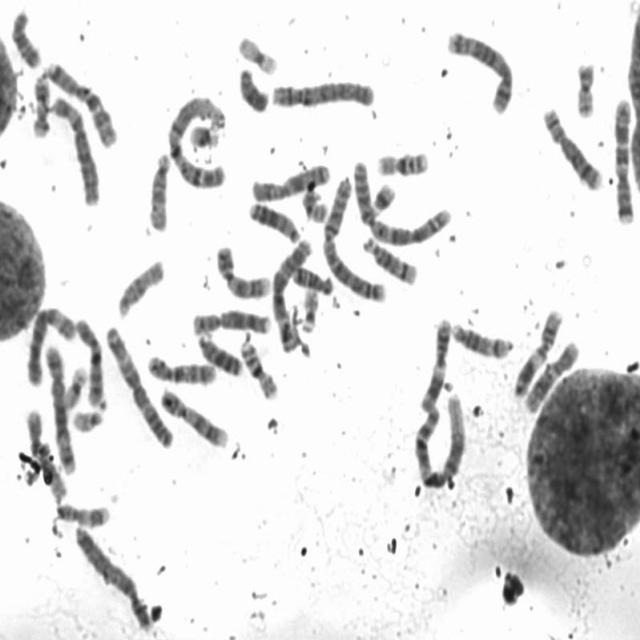A1: (164, 92, 228, 192), (409, 389, 468, 493)
A2: (348, 157, 452, 248), (319, 170, 388, 305)
A3: (104, 322, 174, 449), (268, 236, 314, 356)
B4: (73, 521, 153, 633), (267, 76, 375, 110)
B5: (443, 27, 514, 116), (43, 342, 76, 476)
C10: (73, 316, 105, 408), (143, 351, 217, 387)
C11: (510, 304, 564, 399), (417, 313, 452, 412)
C12: (521, 337, 581, 414), (24, 408, 69, 505)
C6: (49, 91, 102, 207), (22, 302, 78, 388)
C7: (44, 56, 118, 150), (610, 97, 636, 227)
C8: (539, 104, 604, 192), (188, 307, 272, 336)
C9: (157, 384, 229, 450), (213, 242, 272, 300)
D13: (245, 198, 300, 244), (196, 330, 243, 378)
D14: (360, 233, 418, 287), (449, 318, 514, 360)
D15: (114, 256, 165, 318), (146, 148, 172, 233)
E16: (237, 334, 280, 402), (373, 147, 430, 179)
E17: (54, 500, 110, 528), (30, 69, 50, 138)
E18: (9, 8, 42, 70), (290, 263, 335, 295)
F19: (236, 34, 279, 76), (58, 361, 89, 410)
F20: (572, 58, 596, 121), (300, 186, 328, 224)
G21: (368, 179, 399, 214), (186, 122, 221, 151)
G22: (71, 405, 108, 434), (298, 287, 320, 334)
X: (248, 160, 332, 203)
Y: (236, 65, 269, 115)
